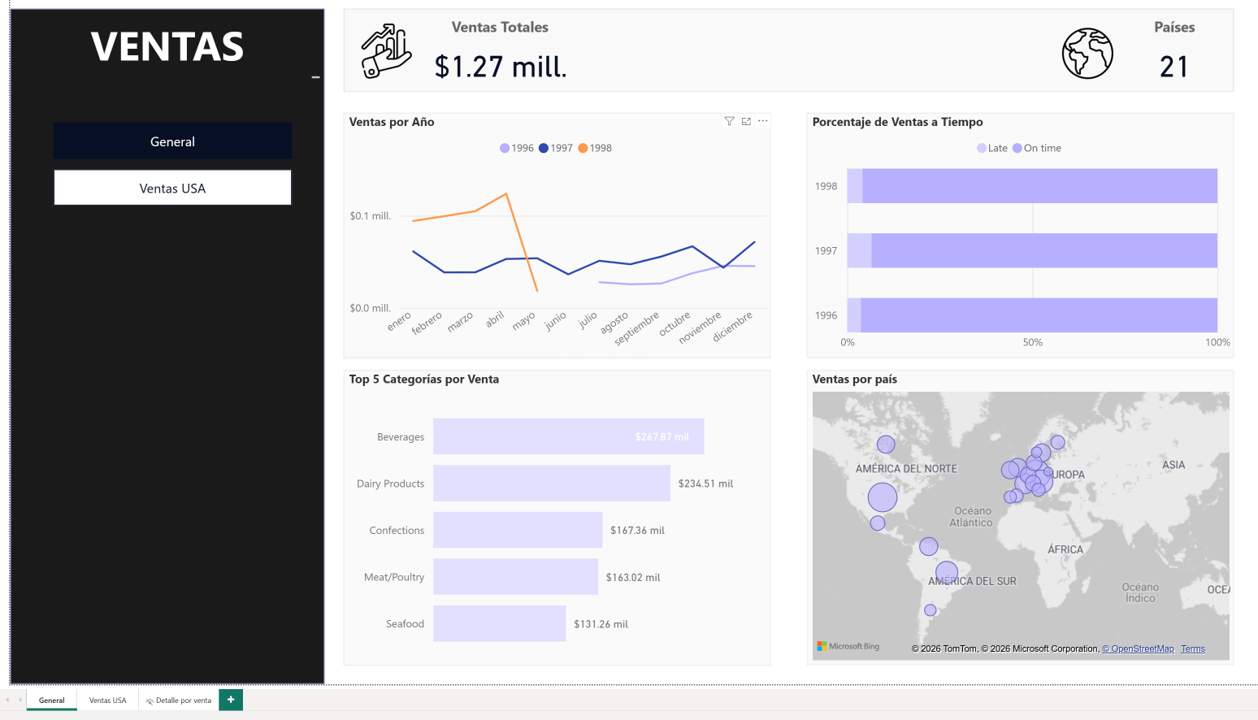

What the dashboard file says about the page in this screenshot:
{"tool":"powerbi","page":{"name":"General","canvas":[1280,720],"ordinal":0},"visuals":[{"type":"lineChart","title":"Ventas por Año","fields":{"Category":["Orders.OrderDate.Variación.Jerarquía de fechas.Mes"],"Y":["Sum(Order_Details.TotalPrice)"],"Series":["Orders.OrderDate.Variación.Jerarquía de fechas.Año"]},"box":[338.2,140.5,433.4,248.9],"z":0},{"type":"hundredPercentStackedBarChart","title":"Porcentaje de Ventas a Tiempo","fields":{"Series":["Orders.ShipResult"],"Y":["Sum(Order_Details.TotalPrice)"],"Category":["Orders.OrderDate.Variación.Jerarquía de fechas.Año","Orders.OrderDate.Variación.Jerarquía de fechas.Trimestre","Orders.OrderDate.Variación.Jerarquía de fechas.Mes","Orders.OrderDate.Variación.Jerarquía de fechas.Día"]},"box":[807.9,140.3,433.5,248.9],"z":1000},{"type":"barChart","title":"Top 5 Categorías por Venta","fields":{"Category":["Categories.CategoryName"],"Y":["Sum(Order_Details.TotalPrice)"]},"box":[338.2,401,433.5,299.8],"z":1001},{"type":"map","title":"Ventas por país","fields":{"Category":["Orders.ShipCountry"],"Size":["Sum(Order_Details.TotalPrice)"]},"box":[807.9,401,433.5,299.1],"z":1002},{"type":"shape","box":[338.2,34.7,903.1,84.9],"z":1003},{"type":"card","title":"Ventas Totales","fields":{"Values":["Sum(Order_Details.TotalPrice)"]},"box":[410.6,42.8,172.8,76.8],"z":1004},{"type":"card","title":"Países","fields":{"Values":["Count(Orders.ShipCountry)"]},"box":[1126.2,42.8,109.3,76.8],"z":1005},{"type":"image","box":[338.2,44.3,87.1,66.5],"z":1006},{"type":"image","box":[1059.7,48.7,66.5,62],"z":1007},{"type":"shape","box":[0,34.7,319,685.3],"z":1008},{"type":"textbox","title":"VENTAS","box":[0,42.8,319,67.9],"z":1009},{"type":"pageNavigator","box":[43.7,150,242.6,85.1],"z":1010}]}

Visuals, with their boxes on the page's 1280x720 design canvas (x1, y1, x2, y2). These are canvas units, not pixel positions in the 1258x720 screenshot, which may show the page scaled, cropped or inside an application window:
"Ventas por Año" lineChart: 338, 140, 772, 389
"Porcentaje de Ventas a Tiempo" hundredPercentStackedBarChart: 808, 140, 1241, 389
"Top 5 Categorías por Venta" barChart: 338, 401, 772, 701
"Ventas por país" map: 808, 401, 1241, 700
shape: 338, 35, 1241, 120
"Ventas Totales" card: 411, 43, 583, 120
"Países" card: 1126, 43, 1236, 120
image: 338, 44, 425, 111
image: 1060, 49, 1126, 111
shape: 0, 35, 319, 720
"VENTAS" textbox: 0, 43, 319, 111
pageNavigator: 44, 150, 286, 235
